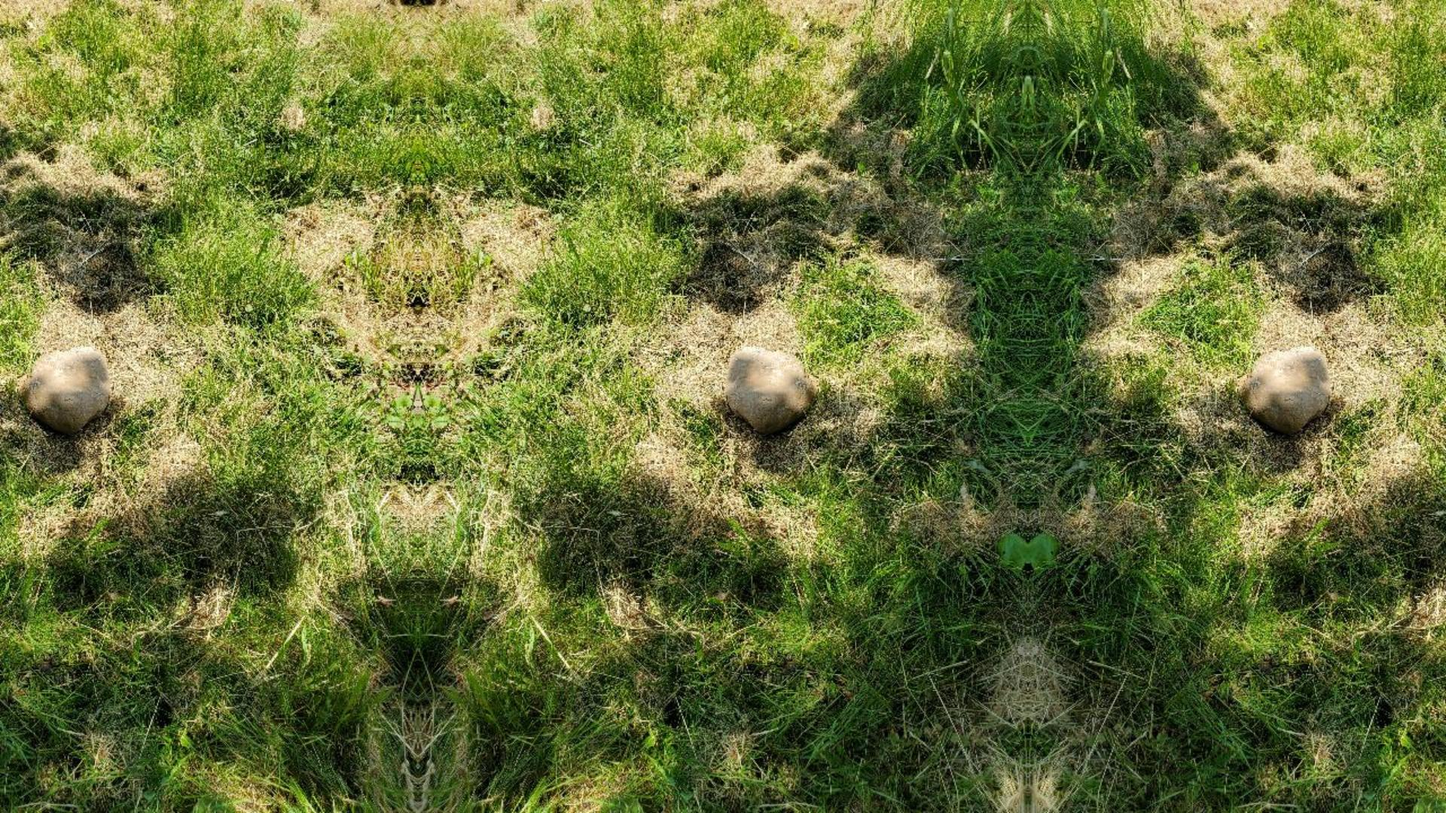rock: (724, 347, 817, 432), (1239, 347, 1331, 432), (19, 347, 110, 432)
